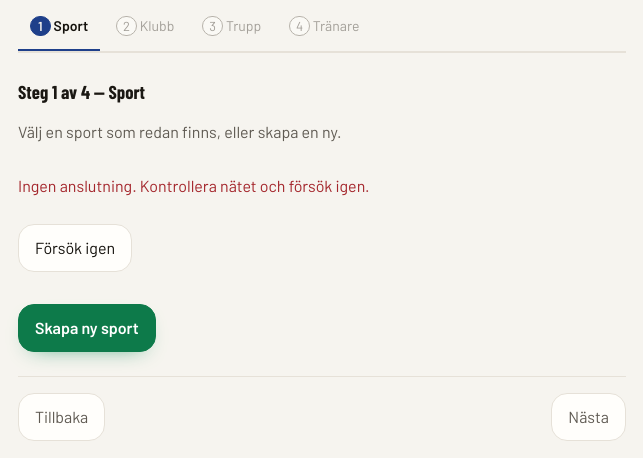
SetupWizard nollar nedströmsval när klubben byts (#540) › visar fel + "Försök igen" när listan inte kunde hämtas, och lyckas vid nytt försök (#613)
Note: Nytt försök → sporten dyker upp.
Click the button "Försök igen": (75, 248) [18, 224, 132, 272]
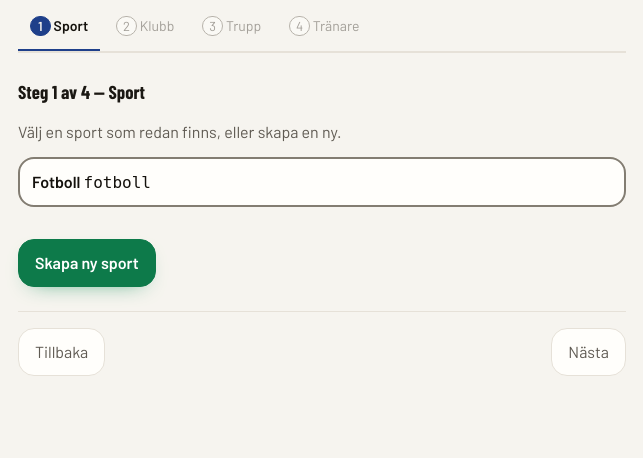
Expected: the radio button labelled "Fotboll fotboll" is shown, [18, 156, 626, 207]
